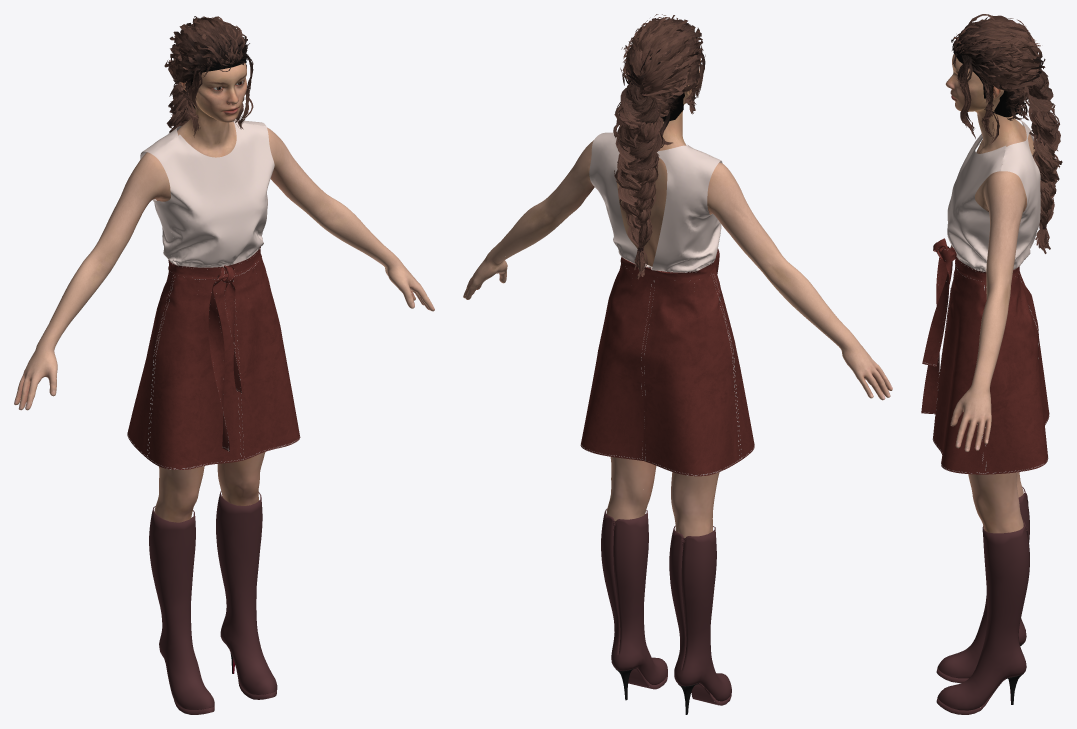
The picture shows the model from 3 angles, left to right: view 1: azimuth 30°, elevation 25°; view 2: azimuth 150°, elevation 25°; view 3: azimuth 270°, elevation 25°; orthographic projection. The views are drawn at different scales.
Visible parts, largest first — view 1: Avatar, Cloth; view 2: Avatar, Cloth; view 3: Avatar, Cloth.
Boxes of the visible parts, x1,y1,x2,y2 form: Avatar: (14,16,434,714); Cloth: (127,119,300,469); Avatar: (463,14,892,714); Cloth: (580,132,754,476); Avatar: (936,14,1062,714); Cloth: (921,119,1049,474).
Size of the model in its own units: 1.1 by 1.7 by 0.3243.
25 materials, 24 textured.
